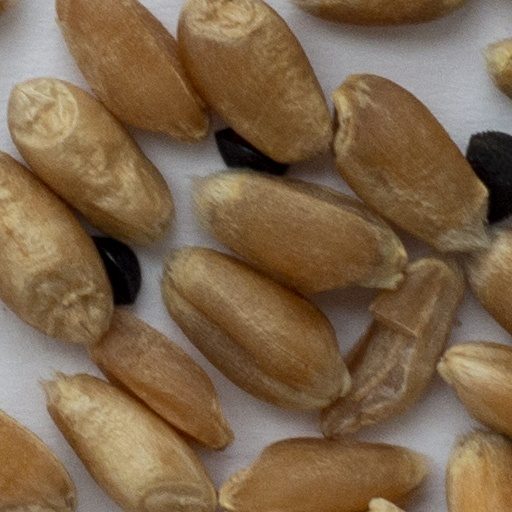Agrostemma-poly: (467, 132, 511, 222)
Fallopia-Convolvulus-poly: (216, 130, 288, 174), (94, 234, 139, 302)
